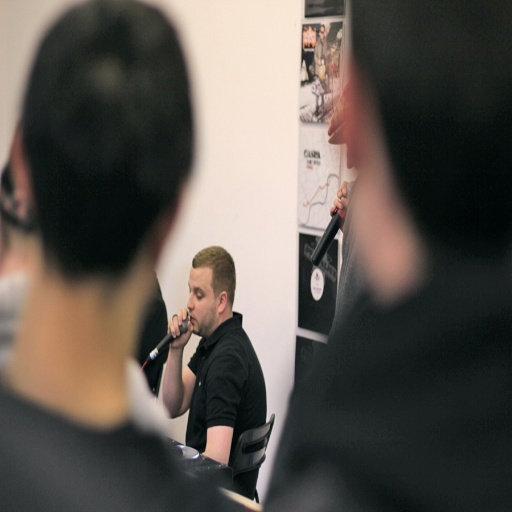hand: (164, 302, 195, 351), (328, 180, 353, 232)
